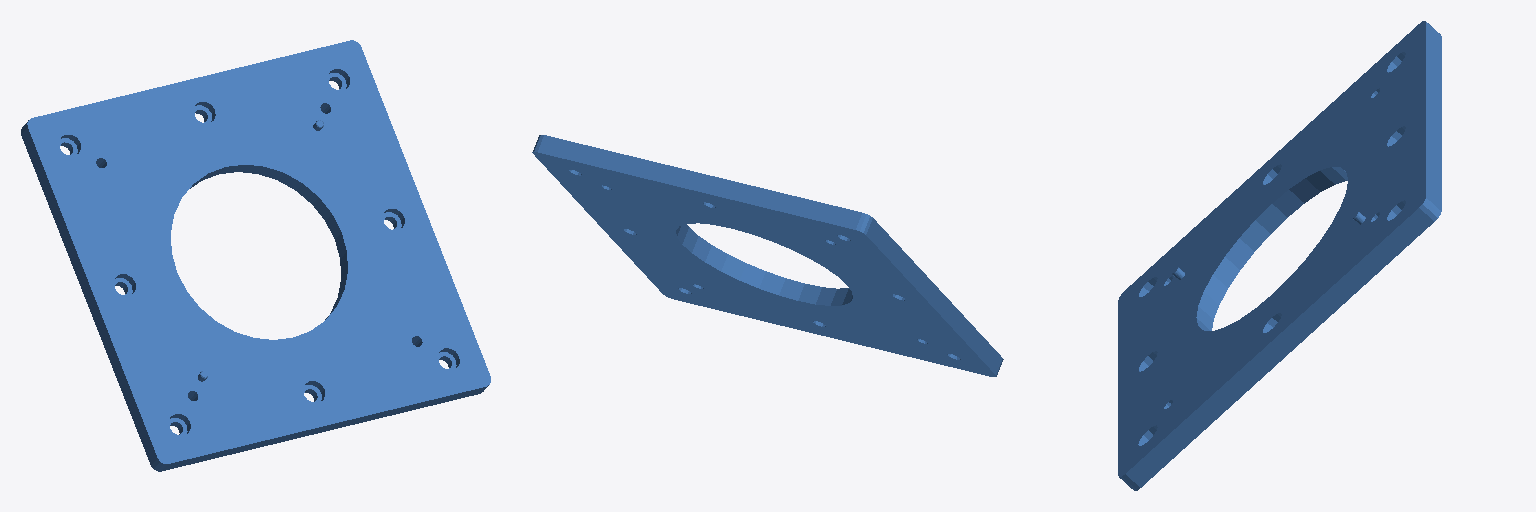
robot.urdf — vention:
<?xml version="1.0" encoding="utf-8"?>
<!-- This URDF was automatically created by SolidWorks to URDF Exporter! Originally created by [author] ([email redacted]) 
     Commit Version: 1.6.0-1-g15f4949  Build Version: 1.6.7594.29634
     For more information, please see http://wiki.ros.org/sw_urdf_exporter -->
<robot
  name="vention">
  <link
    name="structure">
    <inertial>
      <origin
        xyz="0.107814190564577 0.566367837963756 -0.823987435502551"
        rpy="0 0 0" />
      <mass
        value="14.1695632229938" />
      <inertia
        ixx="0.109973912692726"
        ixy="-0.000163935202793328"
        ixz="1.22501086784118E-06"
        iyy="0.19526897267764"
        iyz="0.00357632844304502"
        izz="0.130505910280162" />
    </inertial>
    <visual>
      <origin
        xyz="0 0 0"
        rpy="0 0 0" />
      <geometry>
        <mesh
          filename="package://vention/meshes/structure.STL" />
      </geometry>
      <material
        name="">
        <color
          rgba="0.752941176470588 0.752941176470588 0.752941176470588 1" />
      </material>
    </visual>
    <collision>
      <origin
        xyz="0 0 0"
        rpy="0 0 0" />
      <geometry>
        <mesh
          filename="package://vention/meshes/structure.STL" />
      </geometry>
    </collision>
  </link>
  <link
    name="plate">
    <inertial>
      <origin
        xyz="1.92312572810938E-09 0.00560028791638634 3.69420727341918E-09"
        rpy="0 0 0" />
      <mass
        value="0.441513794474775" />
      <inertia
        ixx="0.0021724230362444"
        ixy="7.50786094373707E-13"
        ixz="-9.2420489392633E-07"
        iyy="0.00433553756927178"
        iyz="1.38024737039028E-12"
        izz="0.00217242292501514" />
    </inertial>
    <visual>
      <origin
        xyz="0 0 0"
        rpy="0 0 0" />
      <geometry>
        <mesh
          filename="package://vention/meshes/plate.STL" />
      </geometry>
      <material
        name="">
        <color
          rgba="0.337254901960784 0.529411764705882 0.756862745098039 1" />
      </material>
    </visual>
    <collision>
      <origin
        xyz="0 0 0"
        rpy="0 0 0" />
      <geometry>
        <mesh
          filename="package://vention/meshes/plate.STL" />
      </geometry>
    </collision>
  </link>
  <joint
    name="joint_struct"
    type="fixed">
    <origin
      xyz="-0.022411 0.074005 0.29717"
      rpy="2.3562 8.8211E-05 -0.00021296" />
    <parent
      link="structure" />
    <child
      link="plate" />
    <axis
      xyz="0 0 0" />
  </joint>
</robot>

--- What the picture shows (computed from the rendered views, not written in the file) ---
The picture shows the robot from 3 angles, left to right: view 1: azimuth 30°, elevation 25°; view 2: azimuth 150°, elevation 25°; view 3: azimuth 270°, elevation 25°; orthographic projection.
Robot: vention — 2 links, 1 joints (1 fixed); root link structure; default pose: all joints at 0.
Visible links, largest first — view 1: plate; view 2: plate; view 3: plate.
Link boxes in pixels (x1=…): plate: x1=21, y1=40, x2=490, y2=471; plate: x1=532, y1=135, x2=1003, y2=376; plate: x1=1118, y1=21, x2=1441, y2=490.
Size in the robot's own frame: 0.223 by 0.1657 by 0.1657 metres.
1 mesh visuals loaded from 2 distinct referenced files (1 binary STL); not drawn: 1 (reference not matched to a file when rendering).